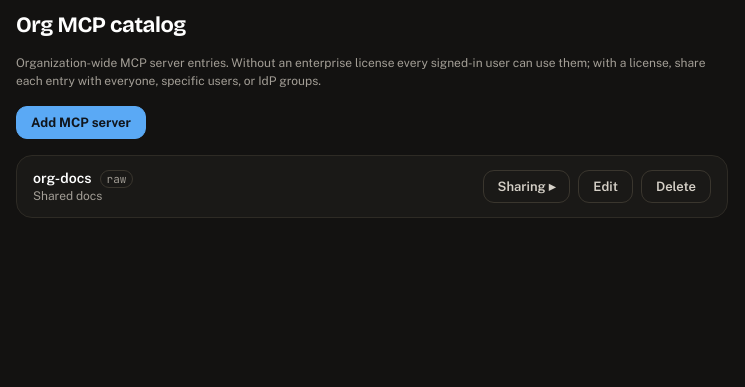
Test: McpServersPane org mode › exposes sharing controls on org entries
Click the button "Sharing ▸". click: (526, 186)
box: [483,170,570,203]
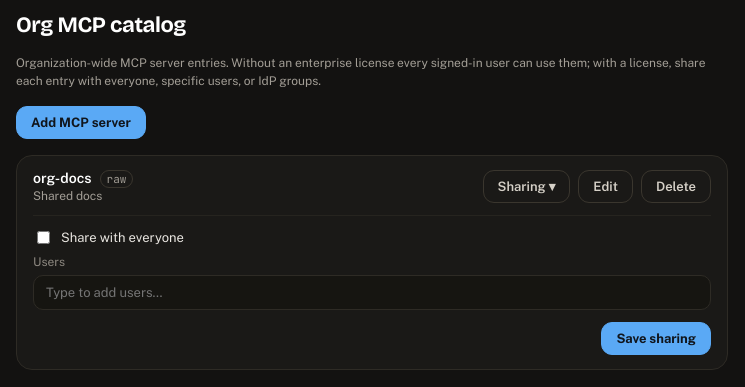
Expected: the element showing "Share with everyone Users Save sharing" is shown, [33,215,711,355]
